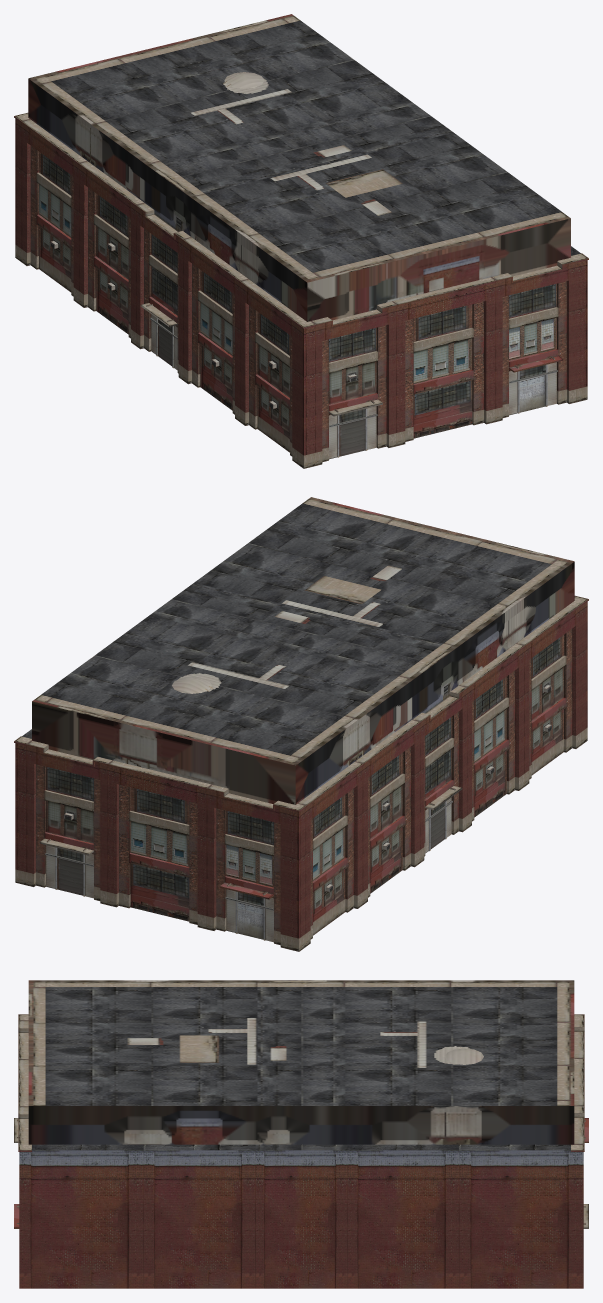
File: dz_industrial_17.fbx
3 views of the same model, one above another, from view 1: azimuth 30°, elevation 25°; view 2: azimuth 150°, elevation 25°; view 3: azimuth 270°, elevation 25° (orthographic). The views are drawn at different scales.
Parts seen in each view (by area): view 1: dz_industrial_17_LOD0; view 2: dz_industrial_17_LOD0; view 3: dz_industrial_17_LOD0.
Part boxes in pixels (<box>): dz_industrial_17_LOD0: <box>14,14,588,468</box>; dz_industrial_17_LOD0: <box>14,497,588,951</box>; dz_industrial_17_LOD0: <box>14,980,588,1288</box>.
Size of what is drawn, in the model's own units: 27.02 by 16.63 by 47.54.
Materials: 2 (2 with a texture image).
